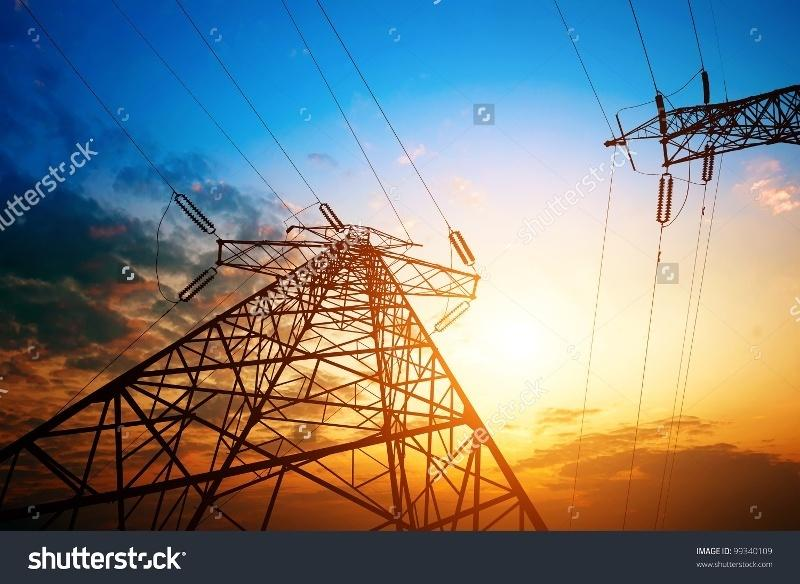power_tower: (9, 192, 576, 528), (598, 76, 788, 182)
